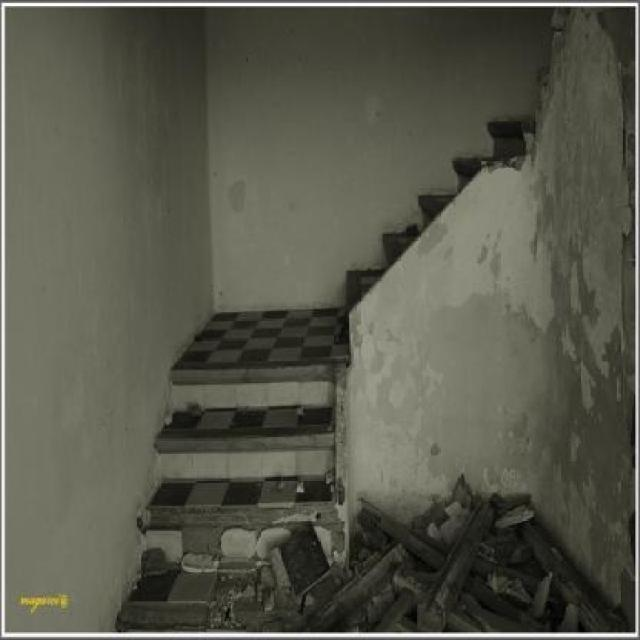stair: (117, 361, 348, 637), (348, 118, 534, 364)
